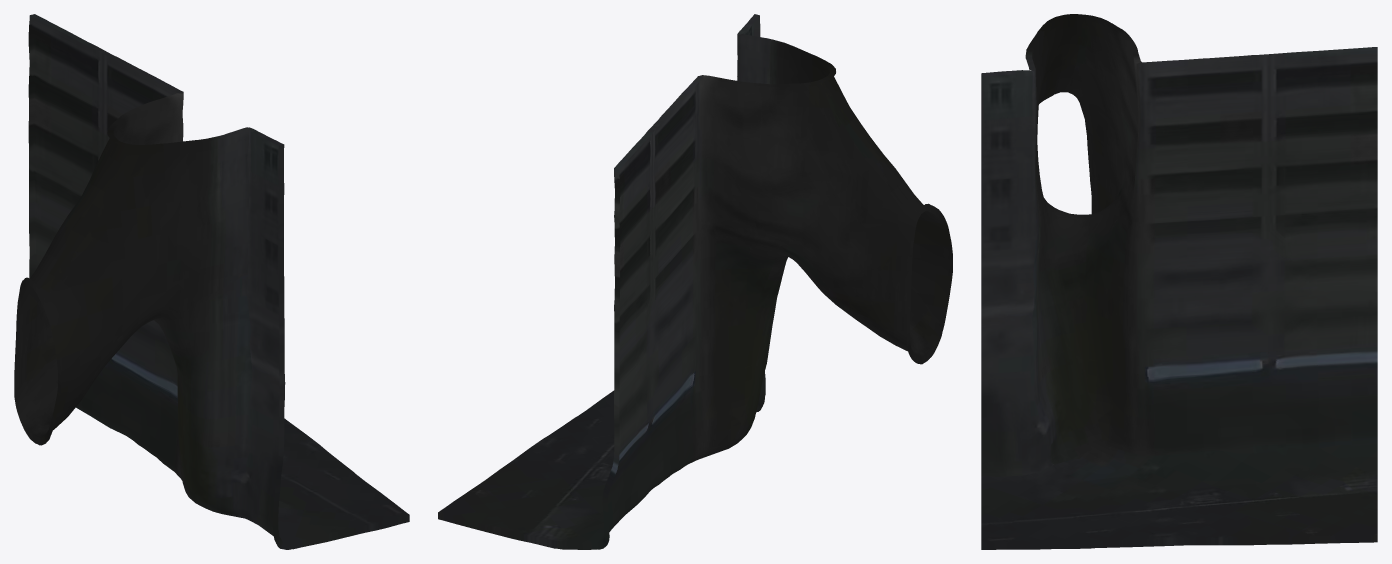
Rendered from z20-167766-405237-h0-yup-uvflip-v3-world.glb.
3 views of the same model, side by side, from view 1: azimuth 30°, elevation 25°; view 2: azimuth 150°, elevation 25°; view 3: azimuth 270°, elevation 25° (orthographic). The views are drawn at different scales.
Bounding box in the file's own units: 30.16 × 34.84 × 30.32.
1 material, 1 textured.
